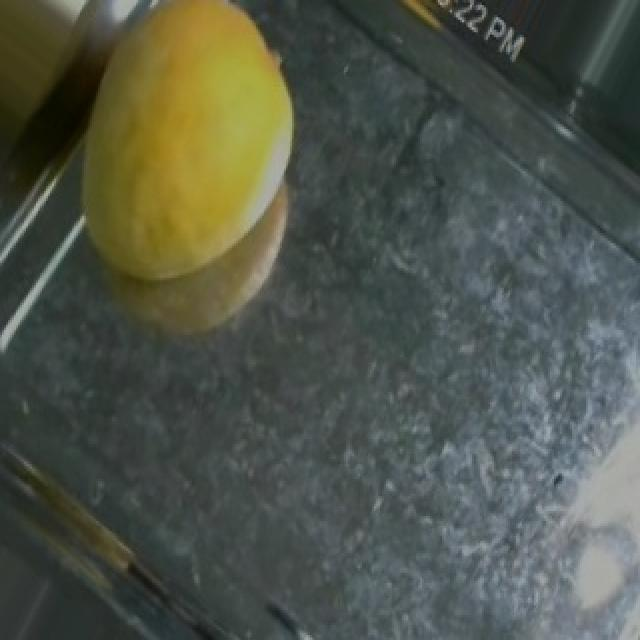fruit: (34, 0, 358, 337)
